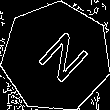N_SW: (24, 25, 88, 89)
